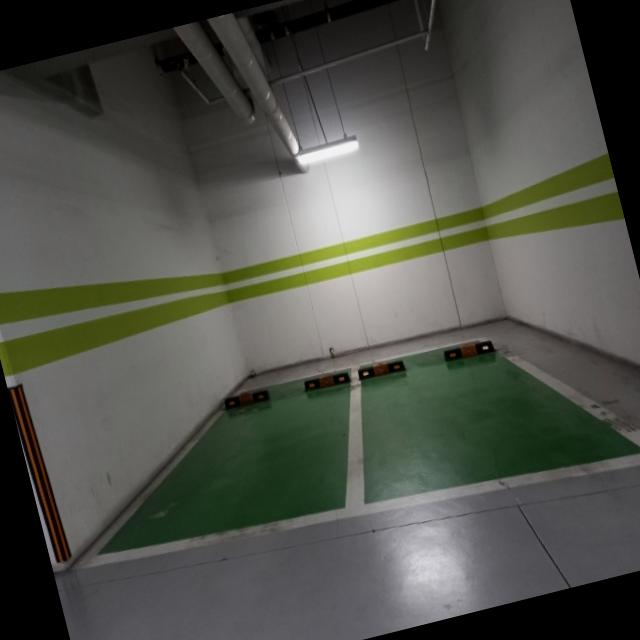free: (48, 364, 382, 578), (326, 312, 612, 524)
